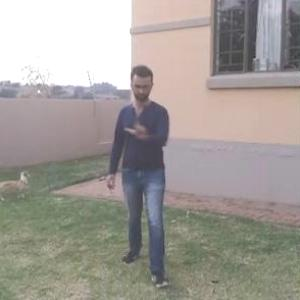land_hand: (125, 111, 153, 142)
